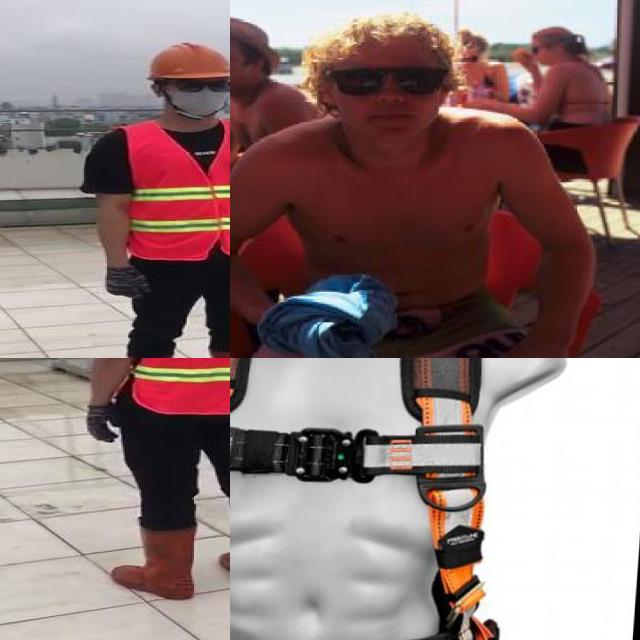Harness: (230, 358, 488, 640)
boots: (108, 525, 195, 602)
face_mask: (166, 76, 230, 118)
face_nomask: (340, 57, 437, 134)
glasses: (330, 63, 448, 97), (168, 76, 230, 96)
hand_glove: (80, 405, 125, 445), (100, 265, 148, 296)
hand_noglove: (489, 340, 576, 358)
head_helmet: (138, 39, 230, 81)
head_nohelmet: (327, 12, 442, 68), (230, 12, 265, 54), (538, 25, 588, 52)
person: (230, 20, 599, 358), (73, 35, 230, 358), (75, 358, 230, 606), (528, 31, 624, 166)
vest: (121, 121, 230, 261)
